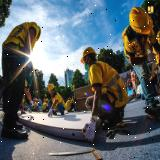Helmet: (130, 6, 152, 36), (81, 47, 97, 61), (48, 83, 55, 92), (46, 99, 49, 103), (45, 94, 47, 97), (36, 99, 38, 101)
Vest: (50, 92, 66, 111), (65, 98, 73, 111), (42, 102, 48, 111), (34, 103, 38, 110)
